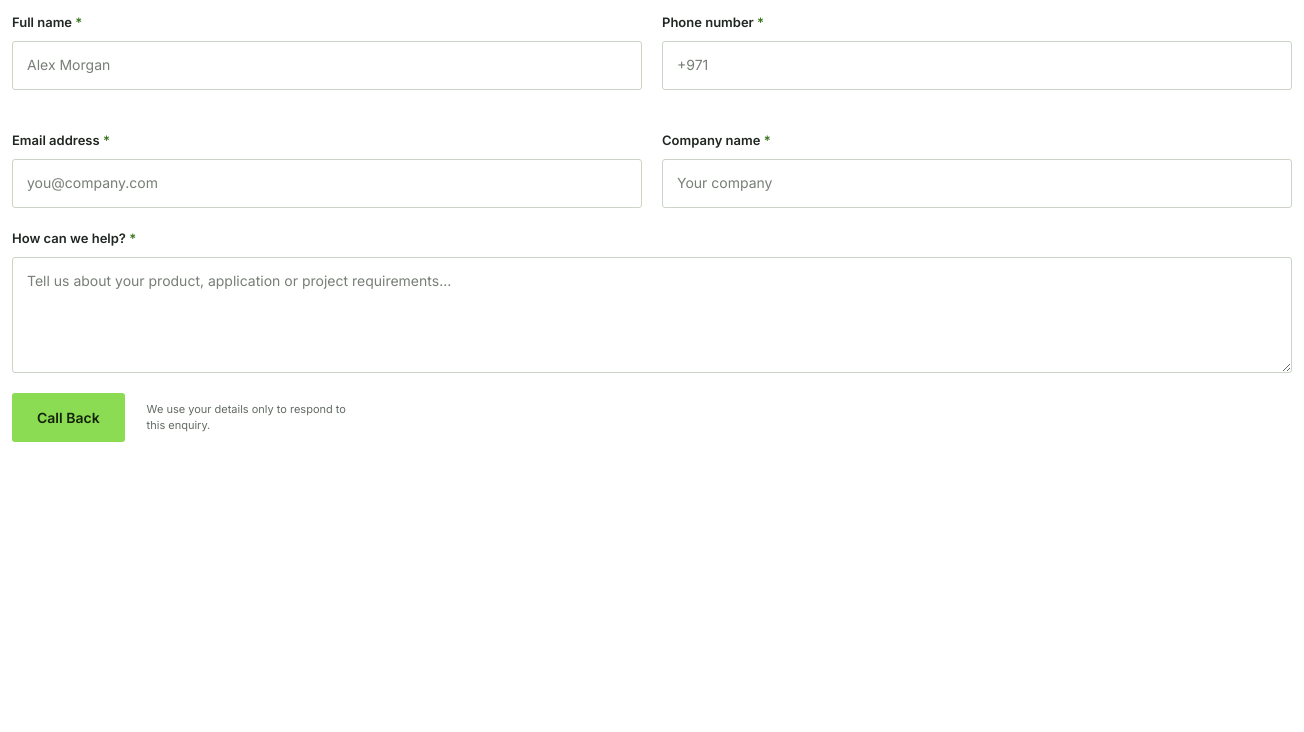
Test: Customer enquiry flow › validates locally and does not send incomplete requests
This screenshot has width=1304, height=732.
Click the button "Call Back" at {"x": 68, "y": 418}, box 12,393 -> 125,442
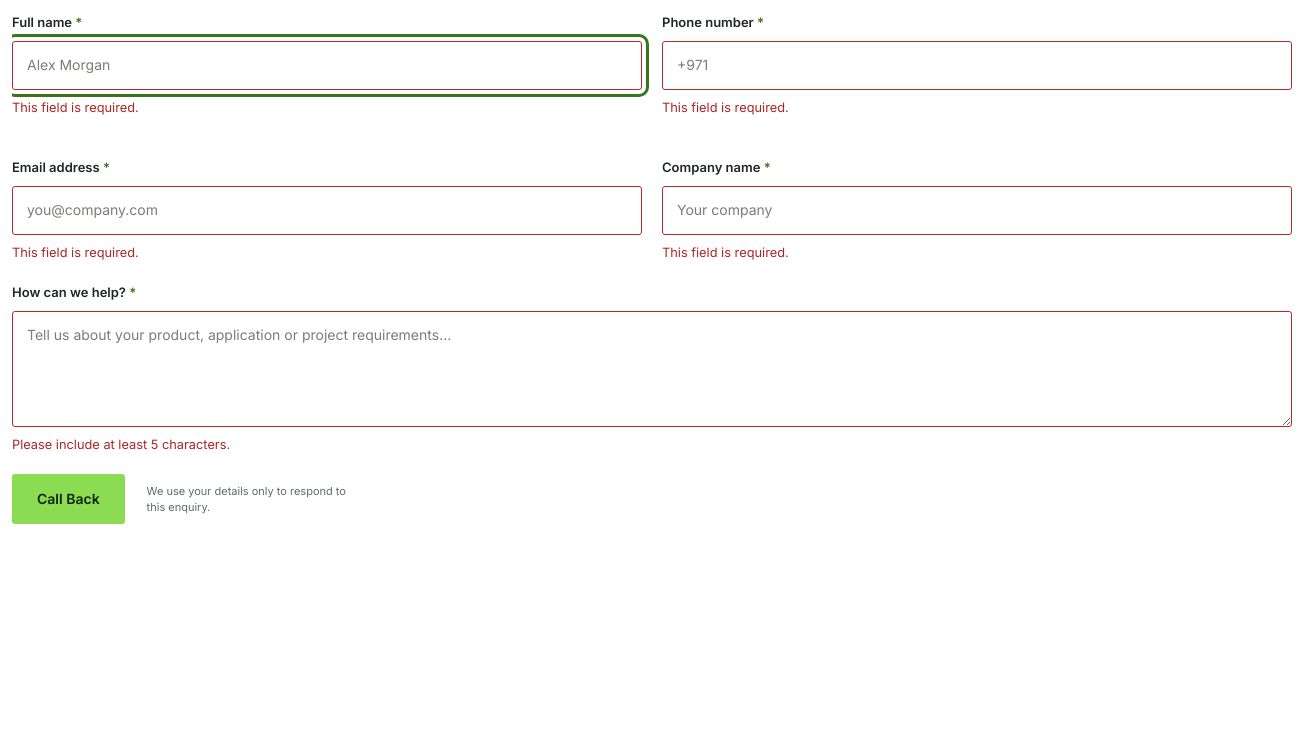
Result: the text "This field is required." below "Full name" is shown at 12,100 -> 139,115
